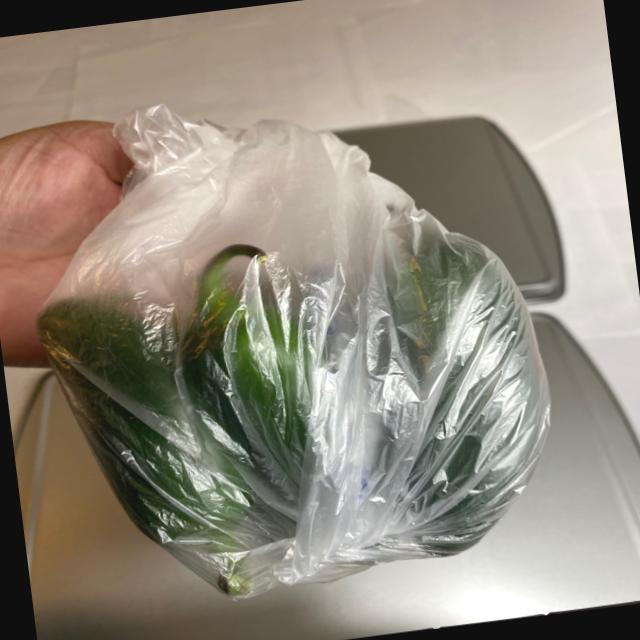chilli: (16, 188, 569, 618)
